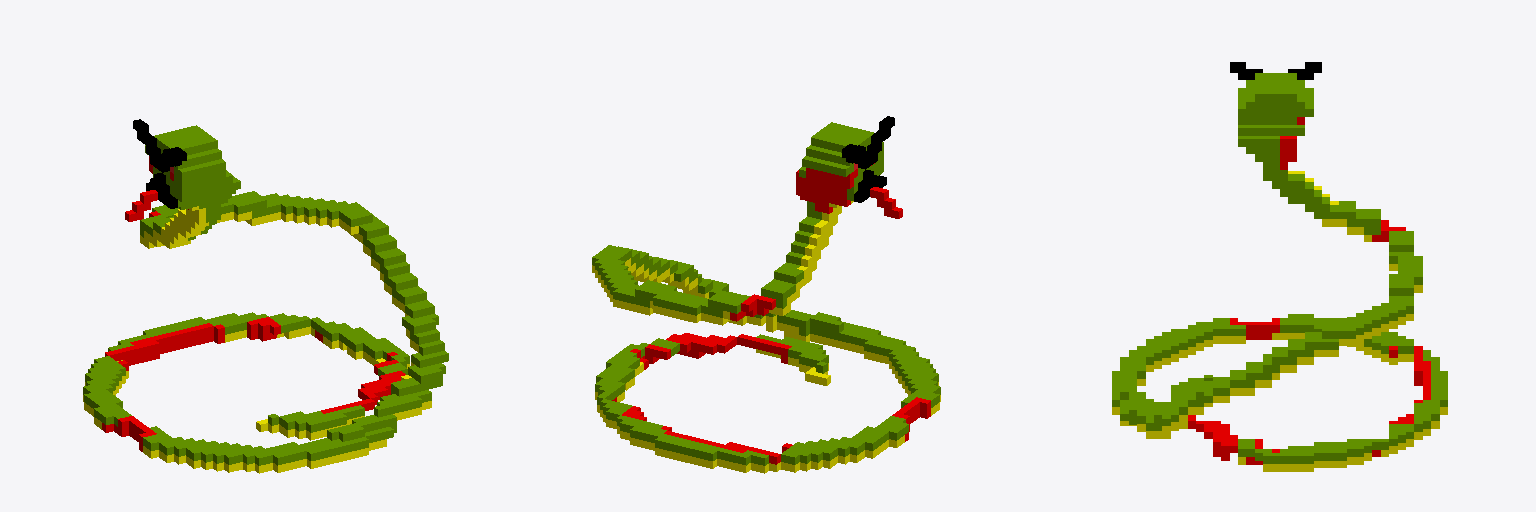
The picture shows the model from 3 angles: view 1: azimuth 30°, elevation 25°; view 2: azimuth 150°, elevation 25°; view 3: azimuth 270°, elevation 25°; orthographic projection.
Parts seen in each view (by area): view 1: object 1; view 2: object 1; view 3: object 1.
Part boxes in pixels (x1,y1,x2,y2): object 1: (83, 119, 448, 473); object 1: (592, 116, 940, 473); object 1: (1112, 62, 1447, 471).
Bounding box in the file's own units: 4 × 3.8 × 4.
1 materials, 1 textured.